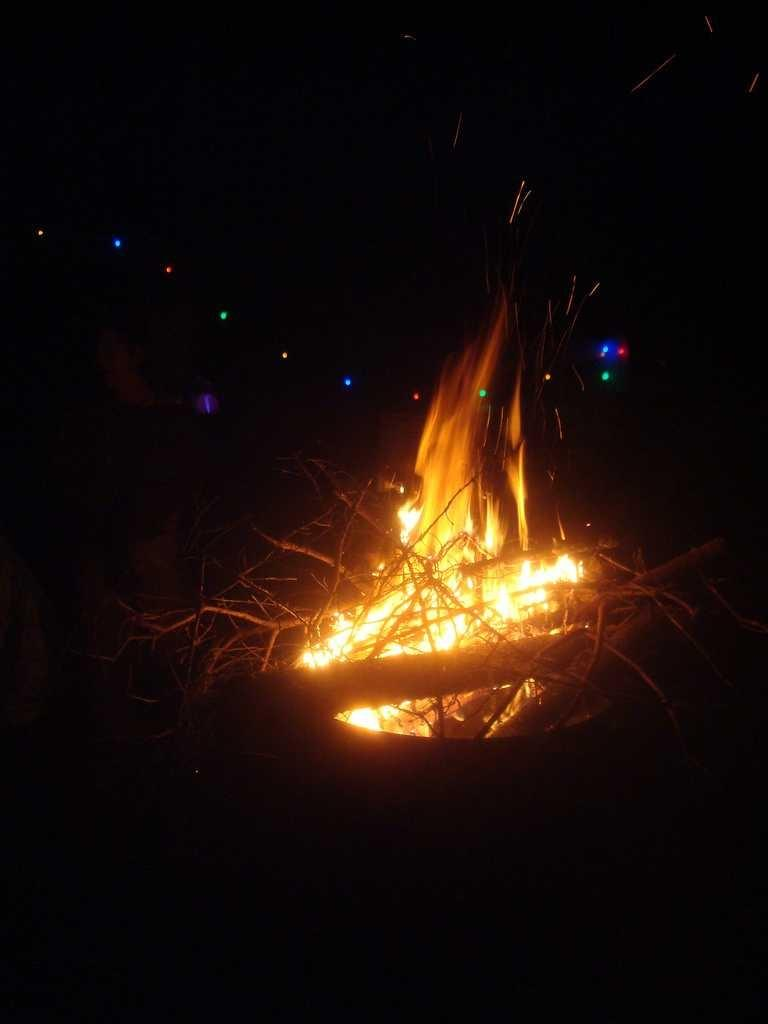fire: (416, 431, 517, 640), (340, 583, 407, 654), (528, 564, 560, 612)
